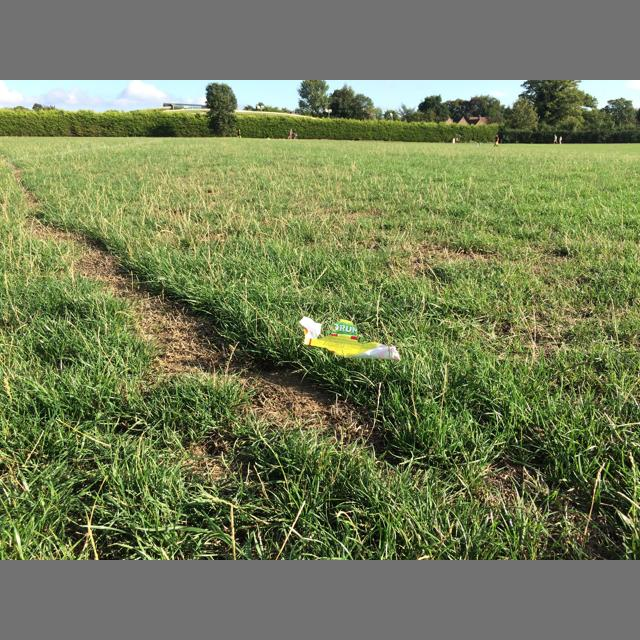litter: (299, 316, 401, 360)
